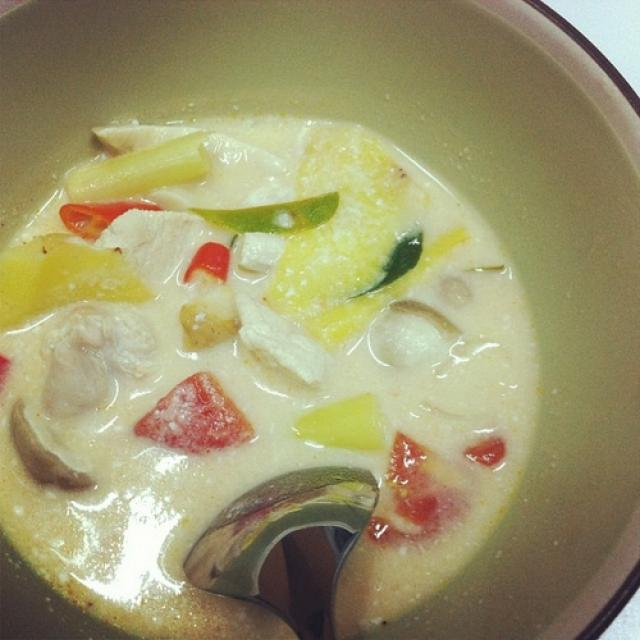汤锅炖物: (15, 64, 562, 616)
